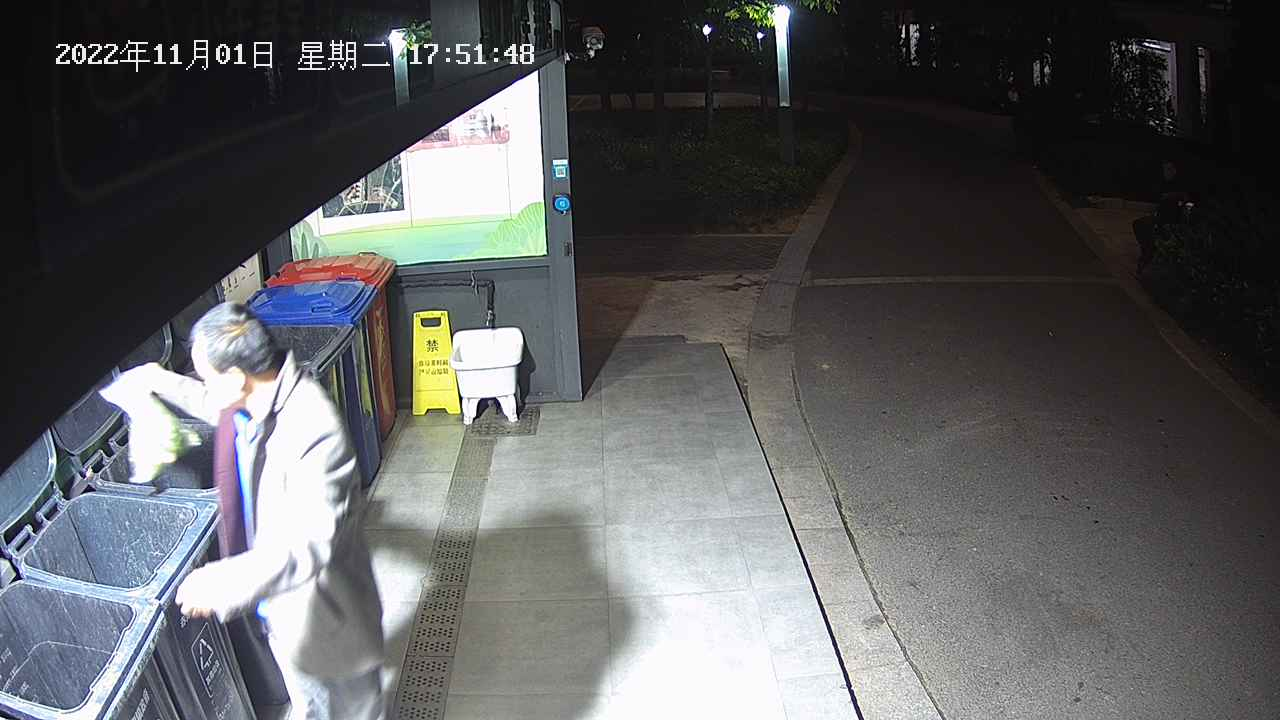garbage-bag: (97, 377, 203, 485)
person: (116, 300, 387, 720)
